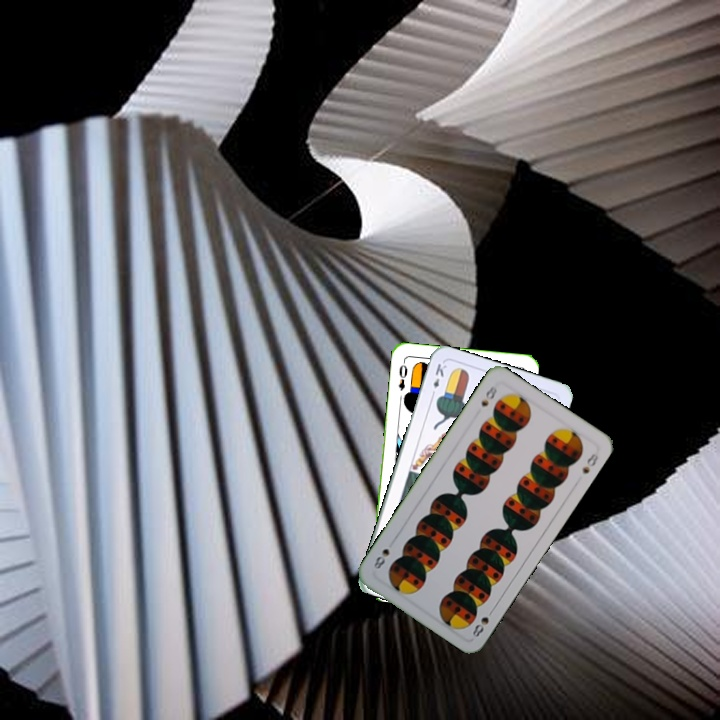EK: (427, 359, 449, 399)
EO: (394, 357, 410, 394)
S8: (468, 604, 497, 640), (477, 382, 500, 409)
